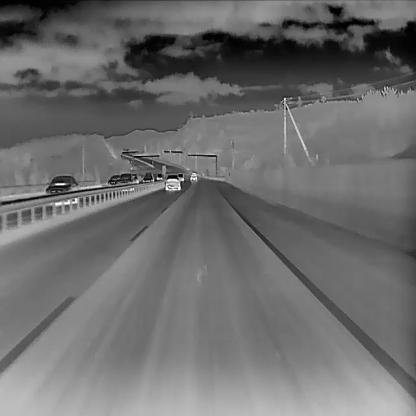car: (44, 173, 79, 205), (117, 171, 136, 191), (164, 173, 181, 191), (106, 172, 122, 188), (141, 171, 154, 185), (188, 171, 197, 181), (177, 172, 183, 182), (156, 173, 163, 181)
